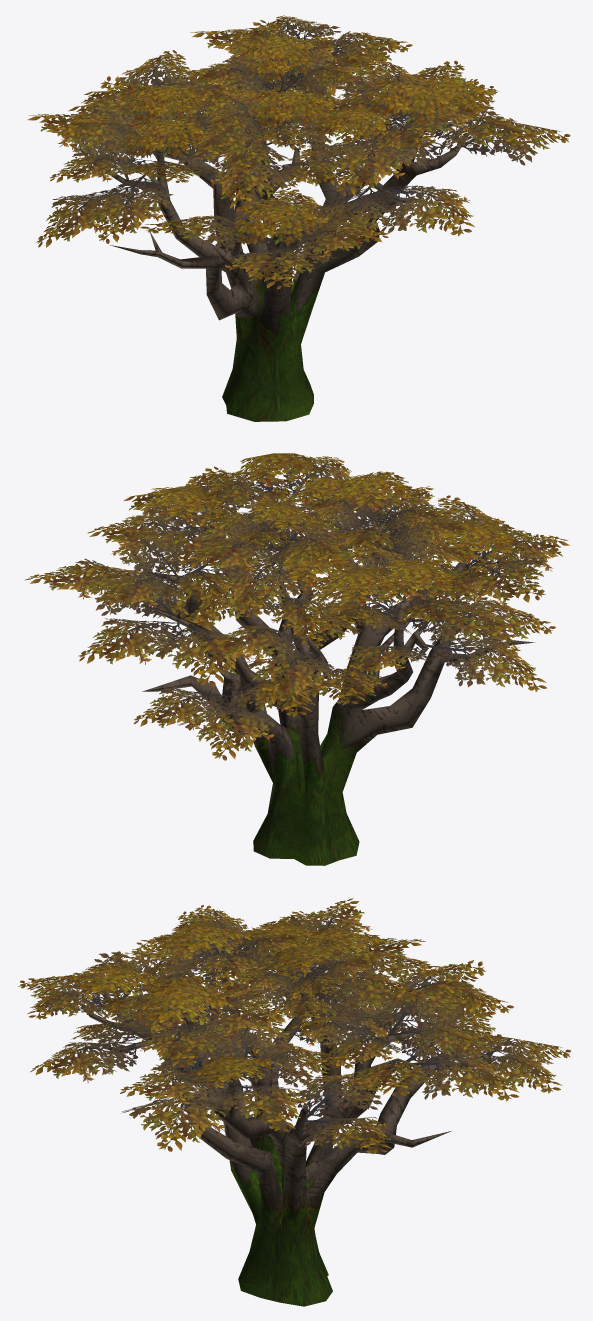
The model's file is fb_tys_tree_04.FBX.
3 views of the same model, one above another, from view 1: azimuth 30°, elevation 25°; view 2: azimuth 150°, elevation 25°; view 3: azimuth 270°, elevation 25° (orthographic).
Visible parts, largest first — view 1: fb_tys_tree_04_b, fb_tys_tree_04_a; view 2: fb_tys_tree_04_b, fb_tys_tree_04_a; view 3: fb_tys_tree_04_b, fb_tys_tree_04_a.
Boxes of the visible parts, x1,y1,x2,y2 form: fb_tys_tree_04_b: [27, 15, 570, 289]; fb_tys_tree_04_a: [80, 32, 468, 421]; fb_tys_tree_04_b: [25, 453, 569, 760]; fb_tys_tree_04_a: [103, 477, 535, 865]; fb_tys_tree_04_b: [18, 898, 570, 1154]; fb_tys_tree_04_a: [81, 942, 492, 1306].
Bounding box in the file's own units: 636 × 420 × 628.
